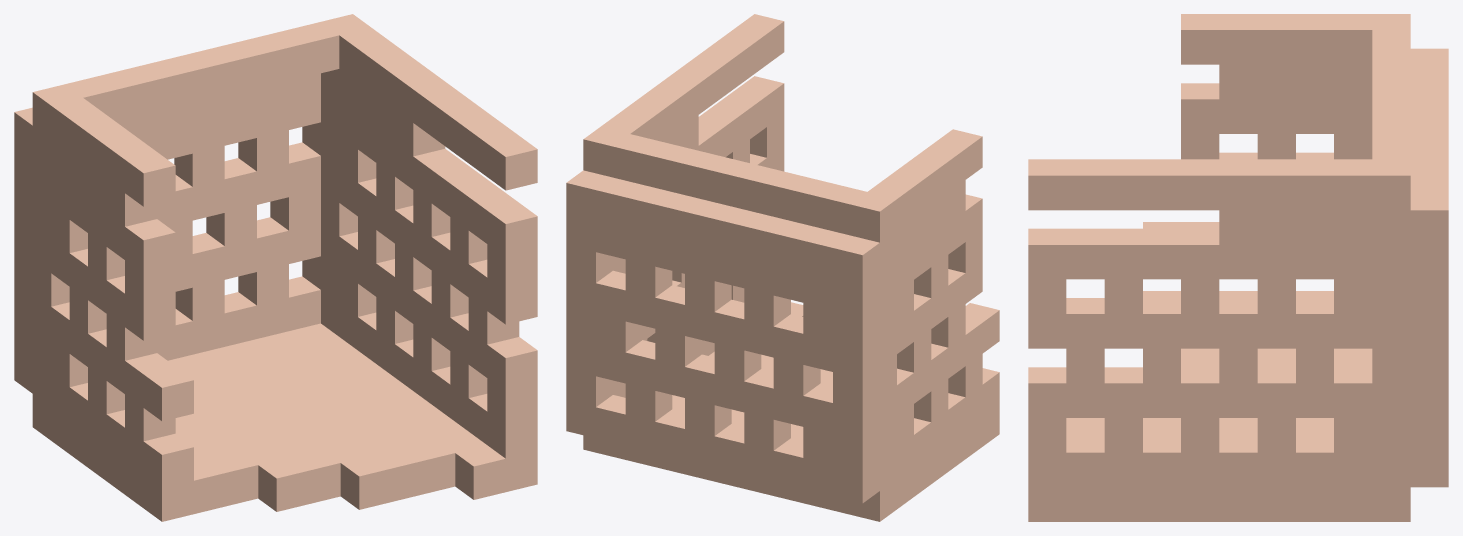
Rendered from LaundryBasket2.obj.
3 renders of one model, left to right at view 1: azimuth 30°, elevation 25°; view 2: azimuth 150°, elevation 25°; view 3: azimuth 270°, elevation 25°, orthographic. The views are drawn at different scales.
Visible parts, largest first — view 1: LaundryBasket2; view 2: LaundryBasket2; view 3: LaundryBasket2.
Boxes of the visible parts, x1,y1,x2,y2 form: LaundryBasket2: (14,14,537,521); LaundryBasket2: (566,14,999,521); LaundryBasket2: (1028,14,1448,521).
Size of the model in its own units: 10 by 10 by 11.
1 material, 1 textured.
